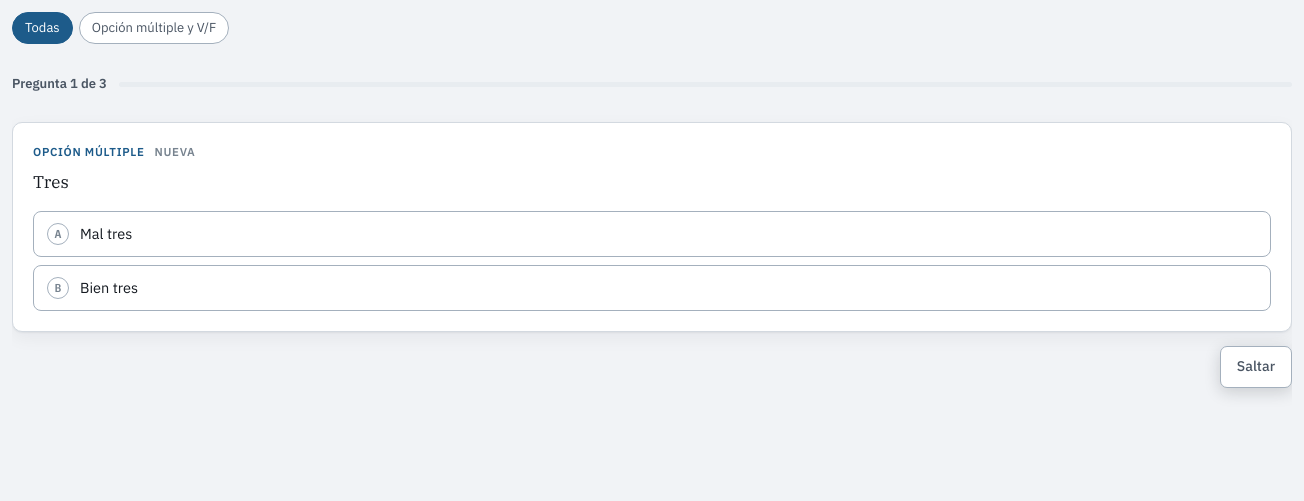
Test: práctica de un tema › cuenta lo saltado como no contestado
This screenshot has width=1304, height=501.
Step 1. Click the text "Bien tres" → (109, 288), box 80,277 -> 138,298
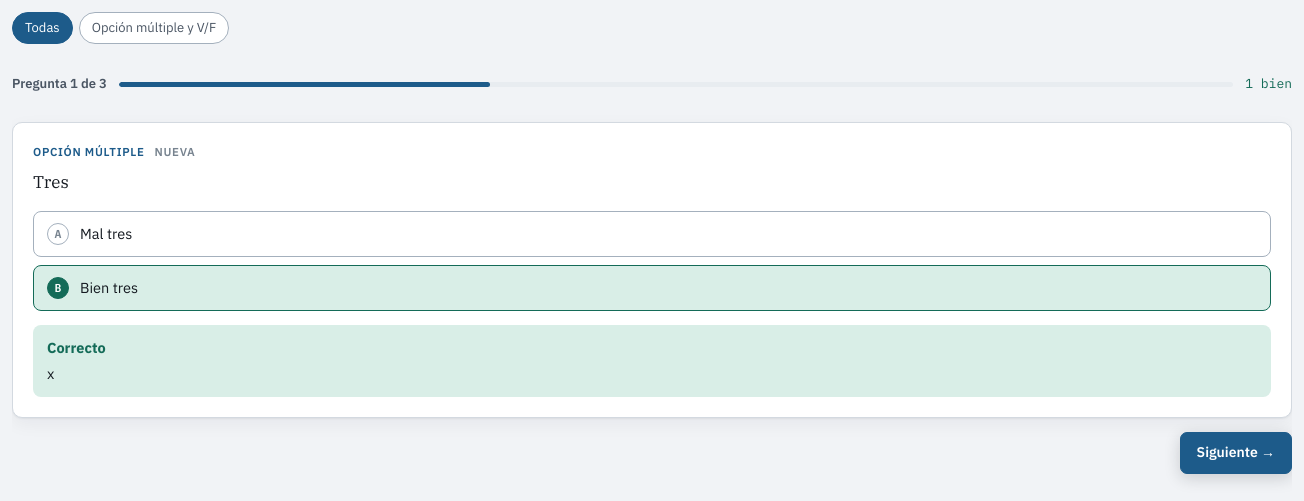
Step 2. Click the button "Siguiente →" → (1236, 453), box 1180,432 -> 1292,474
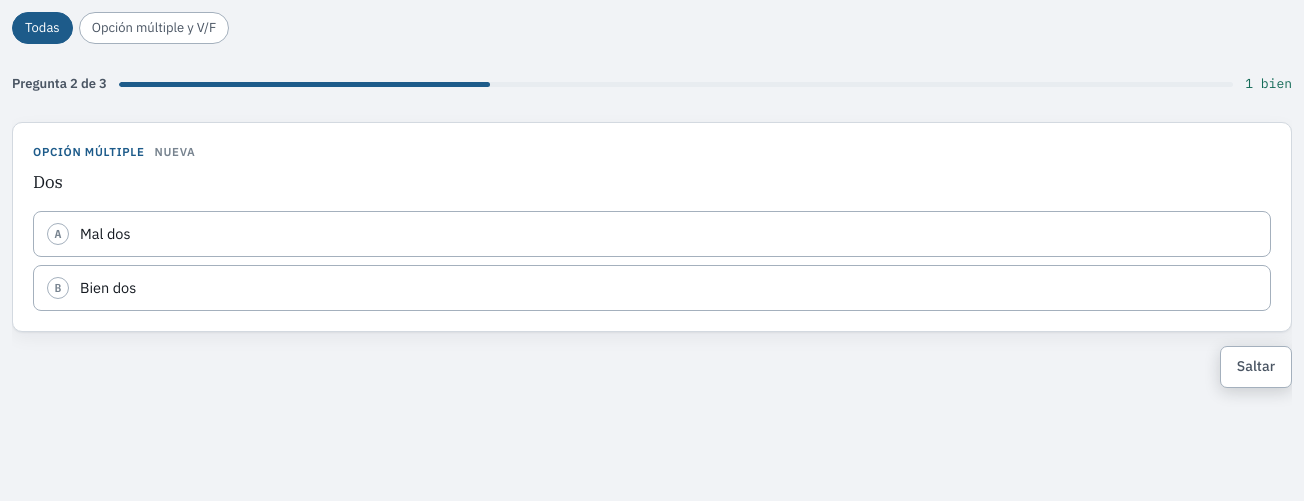
Step 3. Click the button "Saltar" → (1256, 367), box 1220,346 -> 1292,388
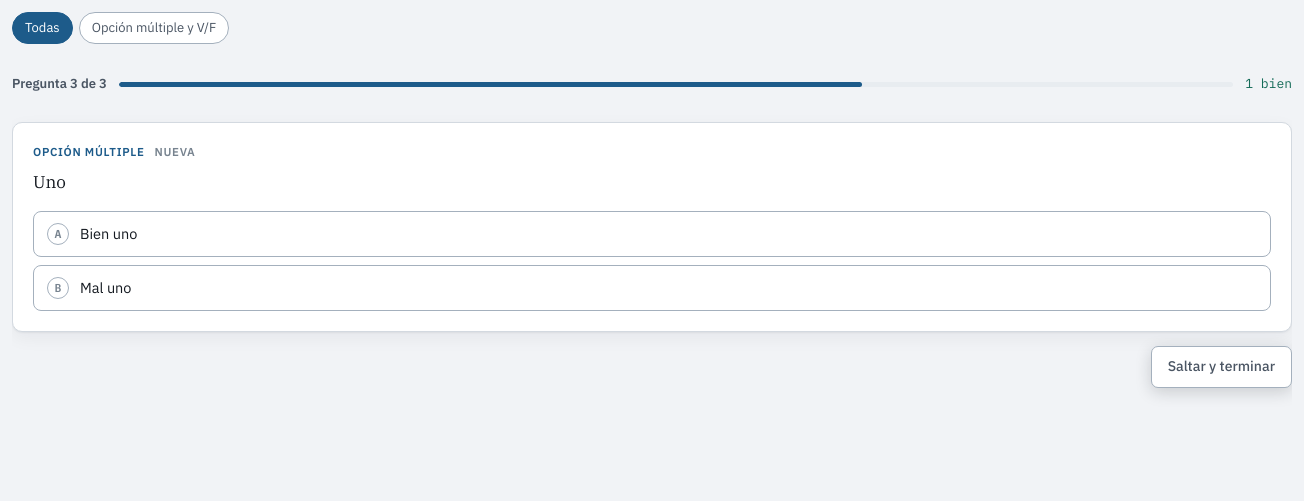
Step 4. Click the button "Saltar y terminar" → (1221, 367), box 1151,346 -> 1292,388
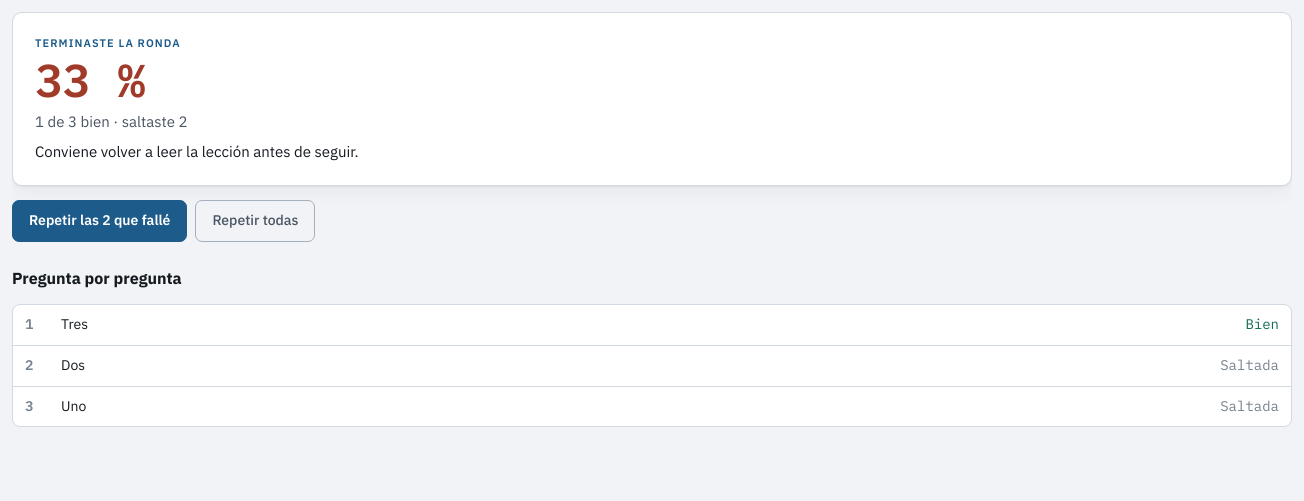
expect the text "33 %" is shown: met, box 35,50 -> 145,110
expect the text "1 de 3 bien · saltaste 2" is shown: met, box 35,112 -> 188,131
